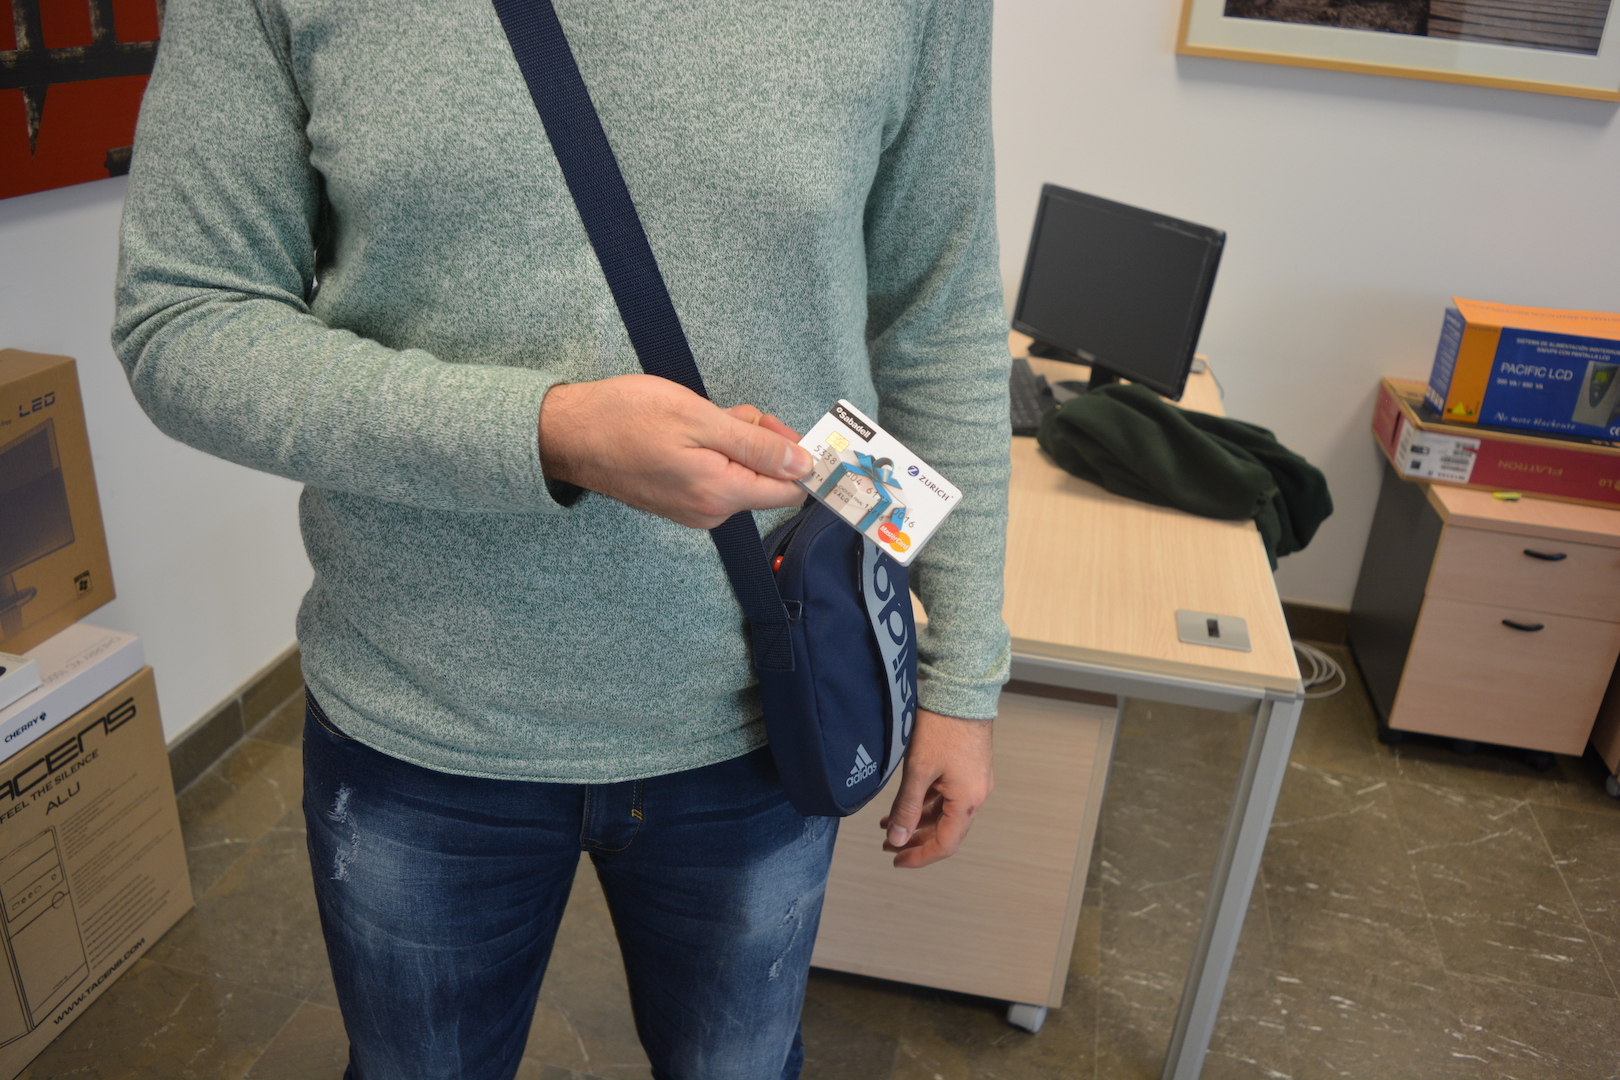tarjeta: (790, 398, 964, 570)
